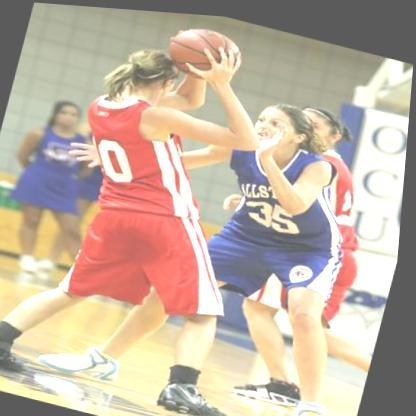basketball: (160, 16, 247, 83)
